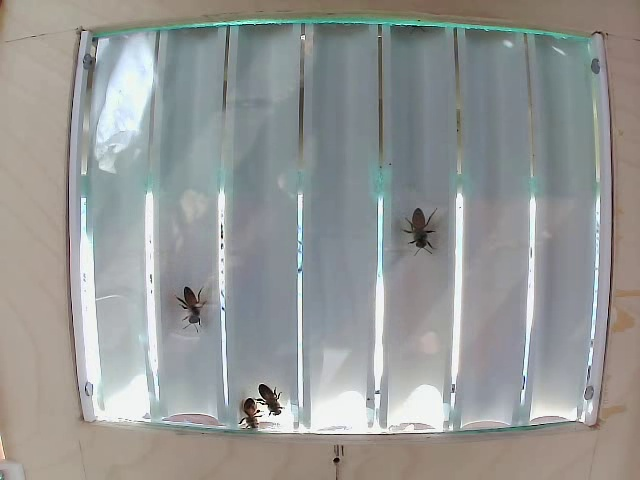bee: (174, 284, 213, 332), (410, 211, 445, 255), (233, 405, 267, 435), (257, 380, 286, 415)
